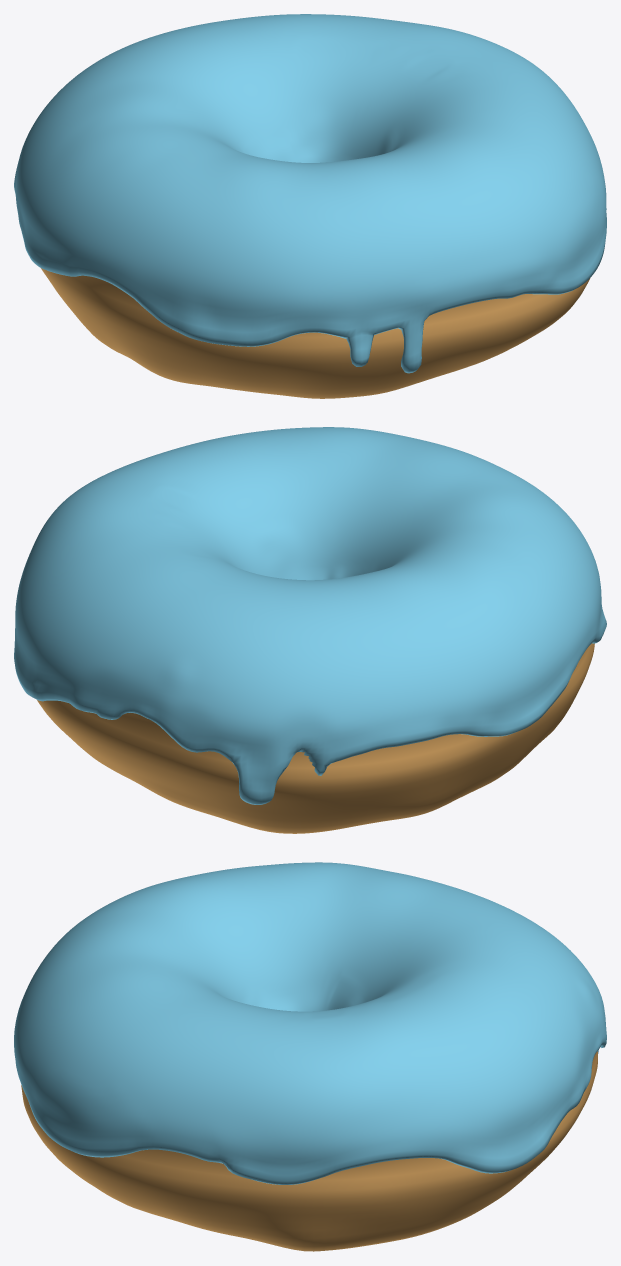
The model's file is donut.fbx.
3 renders of one model, top to bottom at view 1: azimuth 30°, elevation 25°; view 2: azimuth 150°, elevation 25°; view 3: azimuth 270°, elevation 25°, orthographic.
Visible parts, largest first — view 1: Donut.001, Donut; view 2: Donut.001, Donut; view 3: Donut.001, Donut.
Part boxes in pixels (box(x1,y1,x2,y2)): Donut.001: box(14, 14, 606, 373); Donut: box(41, 268, 590, 398); Donut.001: box(14, 427, 606, 804); Donut: box(37, 643, 594, 833); Donut.001: box(14, 862, 606, 1184); Donut: box(21, 1051, 597, 1251).
Bounding box in the file's own units: 130 × 53.77 × 134.
